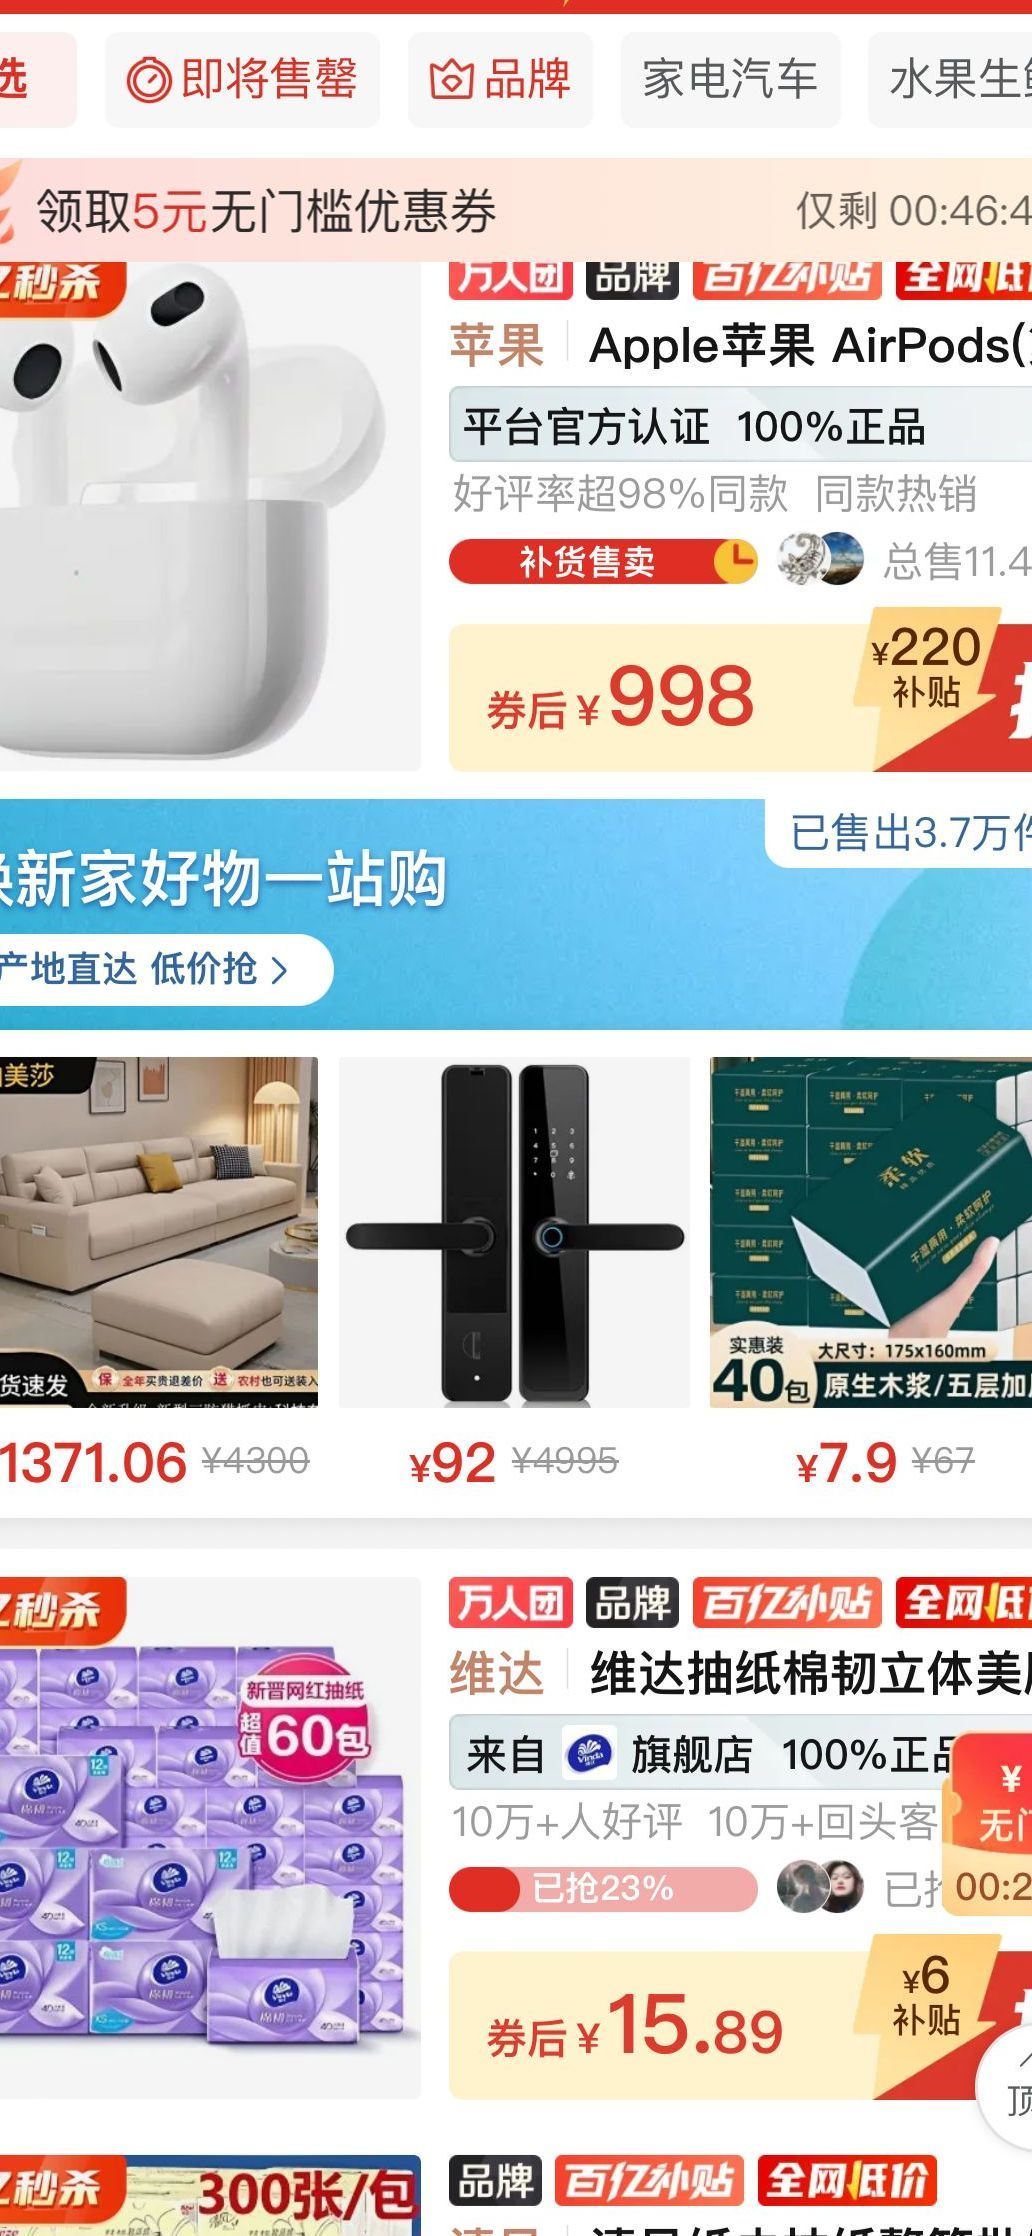banner: (13, 794, 1032, 1042), (7, 145, 1032, 258)
item: (11, 1542, 1032, 2123), (9, 262, 1022, 787), (3, 1052, 1032, 1530)
